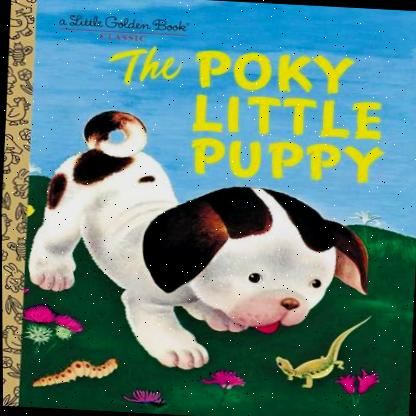dog: (20, 98, 387, 393)
